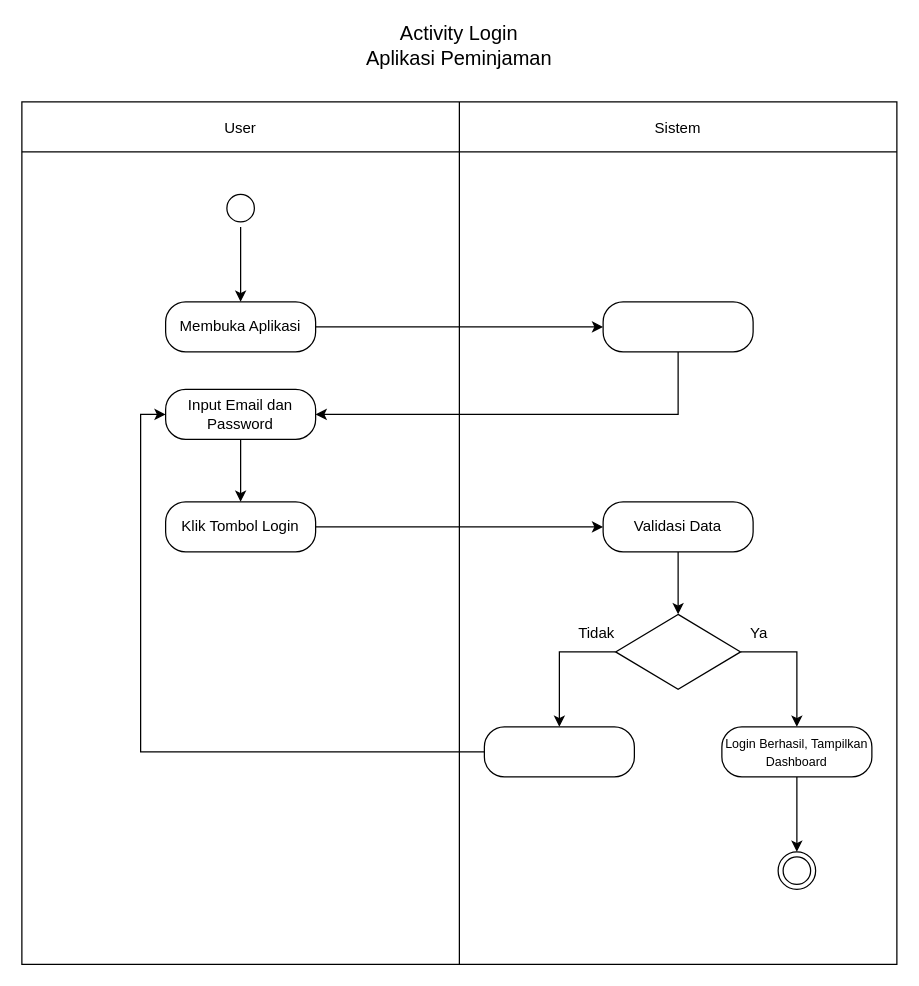
This 919x986 diagram has some shape labels left out. Each missing label, with the centre of its shape:
Sesuai?: the point at 677,651
Tampilkan Halaman Login: the point at 677,326
Tampilkan pesan error: the point at 558,751
